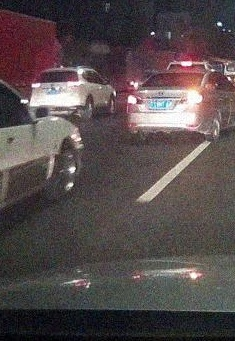L_light: (127, 94, 143, 105), (30, 83, 42, 89)
R_light: (183, 94, 204, 105), (69, 83, 82, 90)
T_light: (168, 72, 183, 76), (55, 70, 64, 74)
night-no: (30, 66, 84, 120)
night-right: (127, 68, 208, 142)
